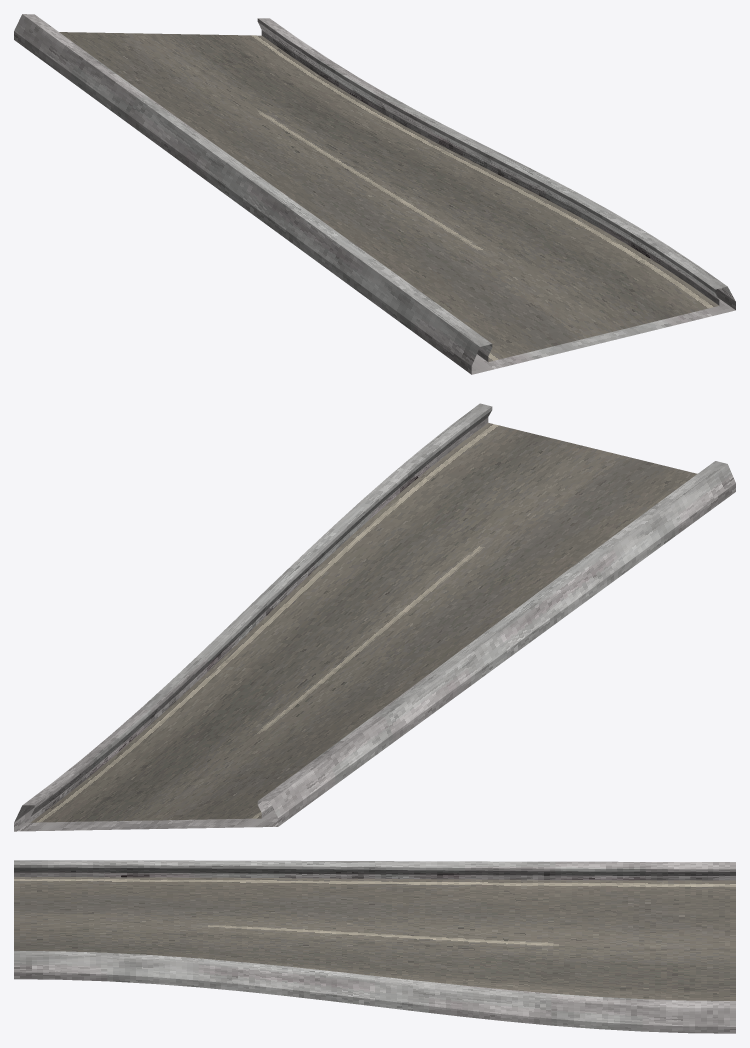
File: road-Straight-Flat-HalfBankedRight-Down1-Center-Size3.glb
3 renders of one model, top to bottom at view 1: azimuth 30°, elevation 25°; view 2: azimuth 150°, elevation 25°; view 3: azimuth 270°, elevation 25°, orthographic. The views are drawn at different scales.
Visible parts, largest first — view 1: road-Straight-Flat-HalfBankedRight-Down1-Center-Size3; view 2: road-Straight-Flat-HalfBankedRight-Down1-Center-Size3; view 3: road-Straight-Flat-HalfBankedRight-Down1-Center-Size3.
Part boxes in pixels (bbox=[...]): road-Straight-Flat-HalfBankedRight-Down1-Center-Size3: bbox=[14, 14, 735, 374]; road-Straight-Flat-HalfBankedRight-Down1-Center-Size3: bbox=[14, 403, 735, 831]; road-Straight-Flat-HalfBankedRight-Down1-Center-Size3: bbox=[14, 860, 735, 1033].
Bounding box in the file's own units: 1 × 0.3438 × 3.
2 materials, 2 textured.
